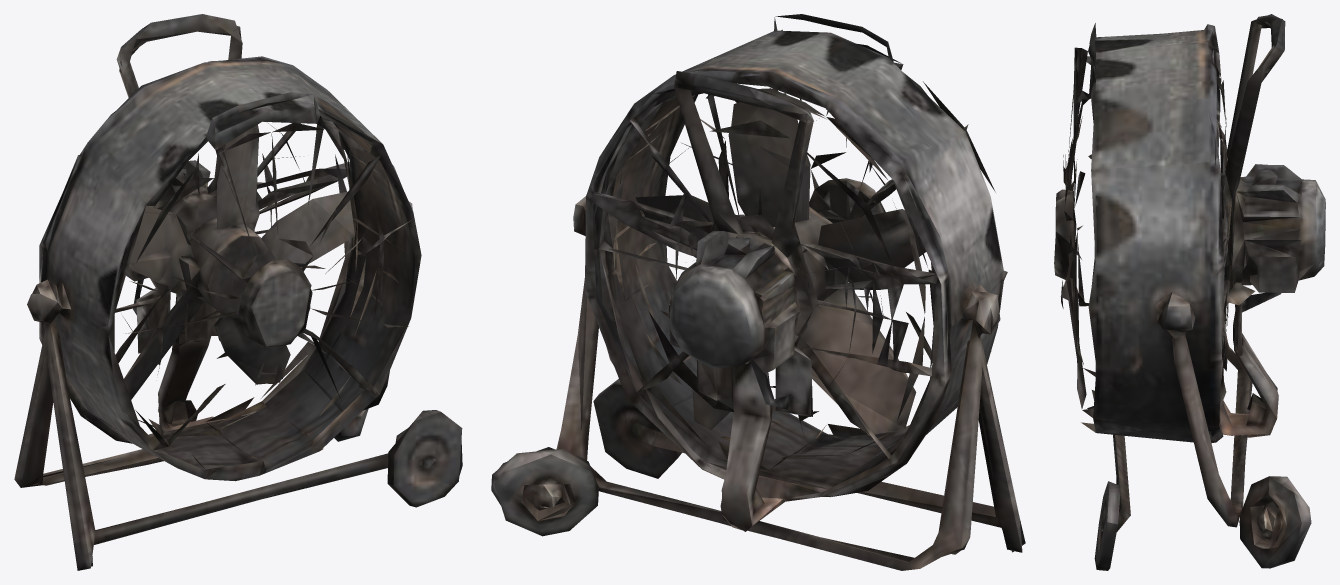
The model's file is p7-drum-fan.glb.
3 views of the same model, side by side, from view 1: azimuth 30°, elevation 25°; view 2: azimuth 150°, elevation 25°; view 3: azimuth 270°, elevation 25° (orthographic). The views are drawn at different scales.
Visible parts, largest first — view 1: p7-drum-fan; view 2: p7-drum-fan; view 3: p7-drum-fan.
Part boxes in pixels (x1,y1,x2,y2): p7-drum-fan: (14,14,462,570); p7-drum-fan: (491,14,1025,570); p7-drum-fan: (1054,14,1325,570).
Bounding box in the file's own units: 0.95 × 1.05 × 0.5644.
Materials: 1 (1 with a texture image).
